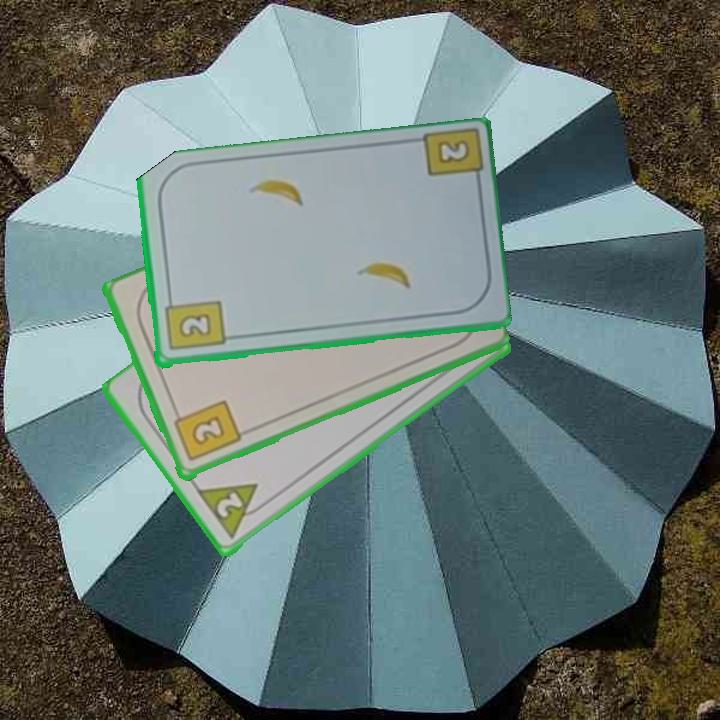2b: (169, 397, 243, 465), (161, 293, 227, 354), (433, 136, 472, 167)
2p: (193, 479, 272, 543)
